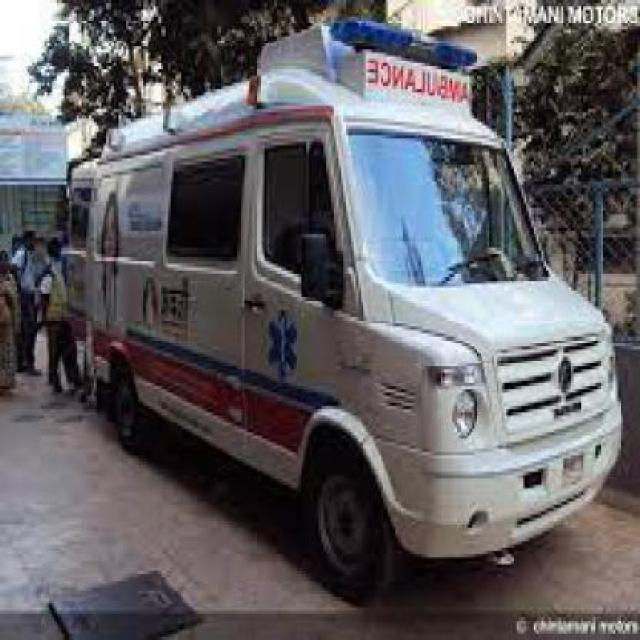Ambulance: (52, 14, 628, 598), (1, 318, 637, 634)
